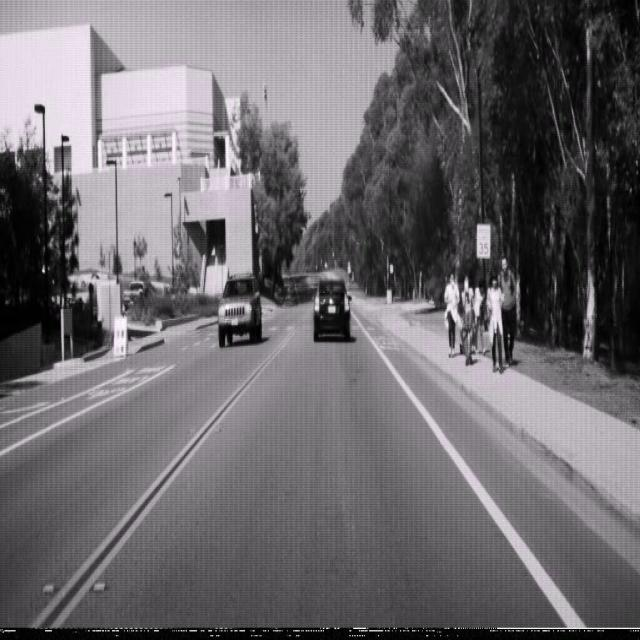speedLimit35: (476, 223, 491, 258)
